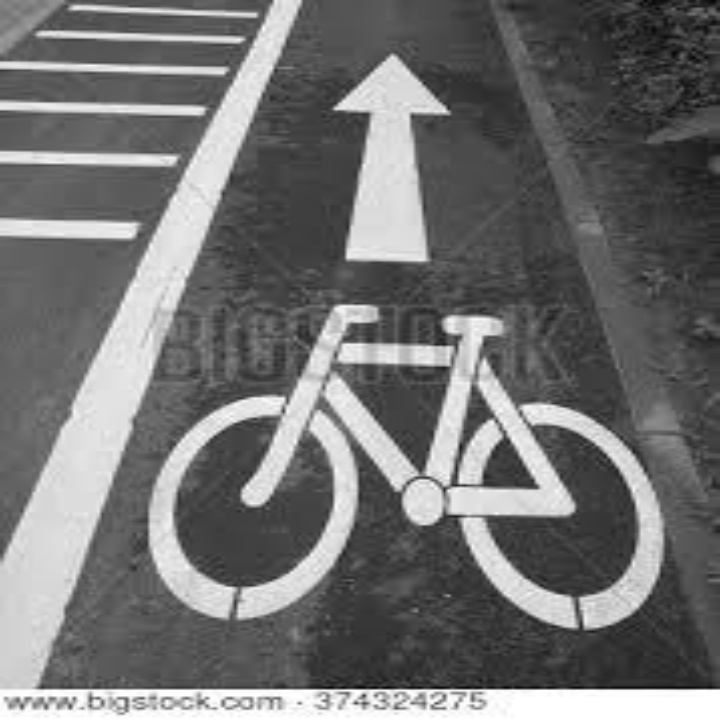bicycle: (146, 280, 674, 659)
